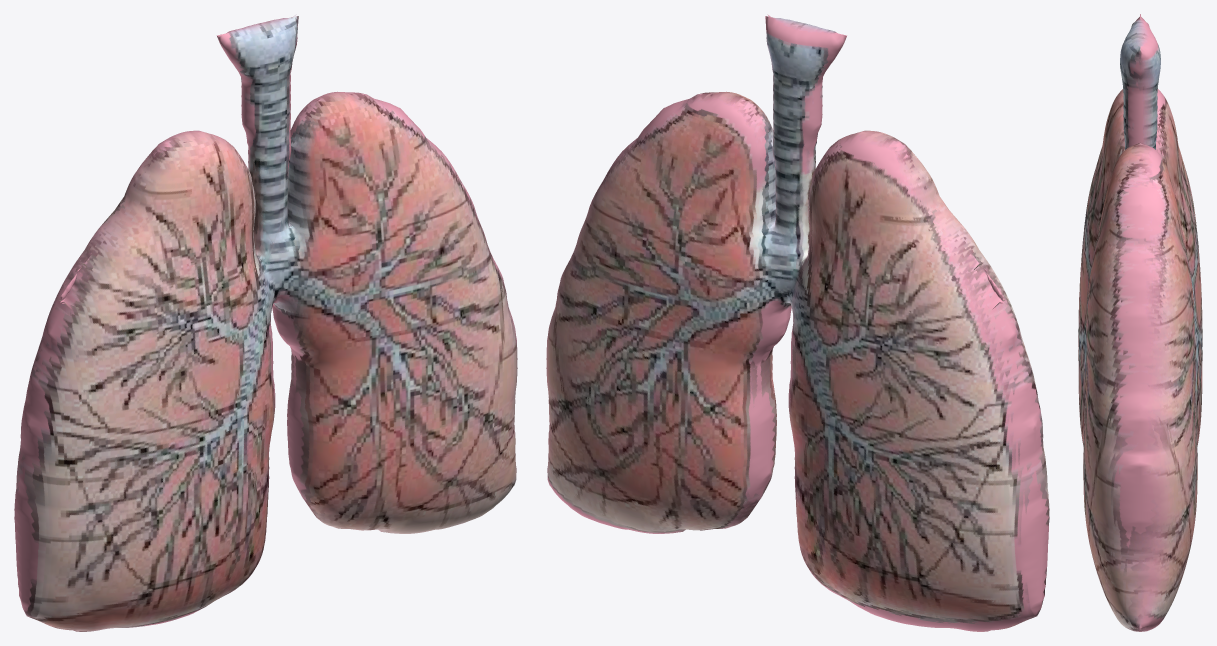
3 views of the same model, side by side, from view 1: azimuth 30°, elevation 25°; view 2: azimuth 150°, elevation 25°; view 3: azimuth 270°, elevation 25° (orthographic). The views are drawn at different scales.
Parts seen in each view (by area): view 1: root; view 2: root; view 3: root.
Boxes of the visible parts, <box> form: root: <box>14,14,517,631</box>; root: <box>546,14,1049,631</box>; root: <box>1078,14,1202,631</box>.
Bounding box in the file's own units: 0.174 × 0.1919 × 0.041.
1 material, 1 textured.
